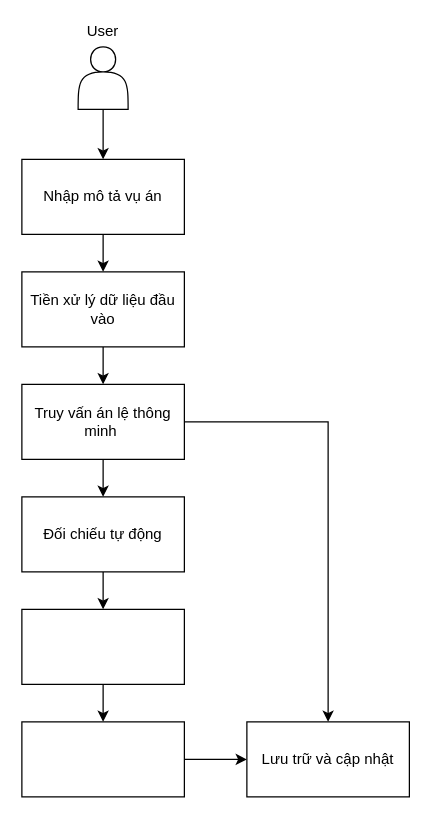
Some shapes in this 431 by 819 pixel diagram are drawn without their labels. The box of each missing label's shape, as (x1, y1, x2, y2) in pixels:
Hỗ trợ soạn thảo bản án: (21, 608, 184, 684)
Kiểm tra và phê duyệt: (21, 721, 184, 797)
